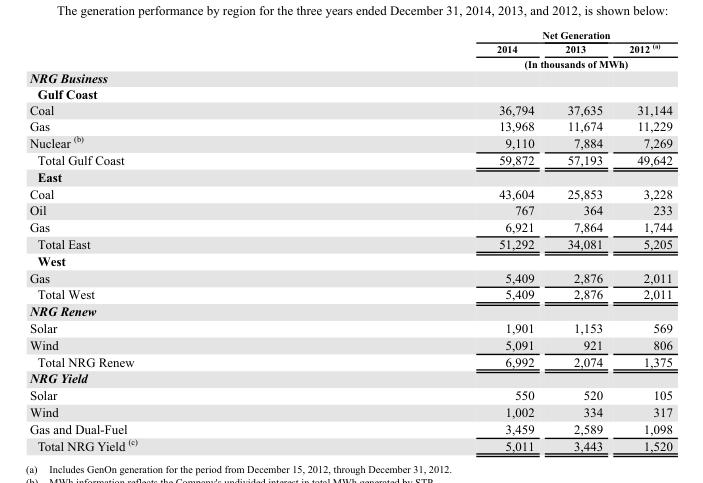table: (28, 28, 671, 452)
table column: (28, 28, 316, 452), (316, 28, 549, 452), (549, 28, 615, 452), (615, 28, 671, 452)
table column header: (28, 28, 671, 69)
table projected row header: (28, 251, 671, 268), (28, 302, 671, 319), (28, 369, 671, 386), (28, 69, 671, 85), (28, 85, 671, 101), (28, 168, 671, 184)
table row: (28, 133, 671, 151), (28, 151, 671, 168), (28, 184, 671, 201), (28, 201, 671, 218), (28, 218, 671, 235), (28, 251, 671, 268), (28, 268, 671, 285), (28, 285, 671, 302), (28, 302, 671, 319), (28, 319, 671, 336), (28, 352, 671, 369), (28, 369, 671, 386), (28, 386, 671, 403), (28, 403, 671, 420), (28, 435, 671, 452), (28, 69, 671, 85), (28, 85, 671, 101), (28, 101, 671, 117), (28, 117, 671, 133), (28, 168, 671, 184), (28, 235, 671, 251), (28, 336, 671, 352), (28, 40, 671, 55), (28, 420, 671, 435), (28, 55, 671, 69), (28, 28, 671, 40)
table spanning cell: (316, 55, 671, 69), (316, 28, 671, 40)
